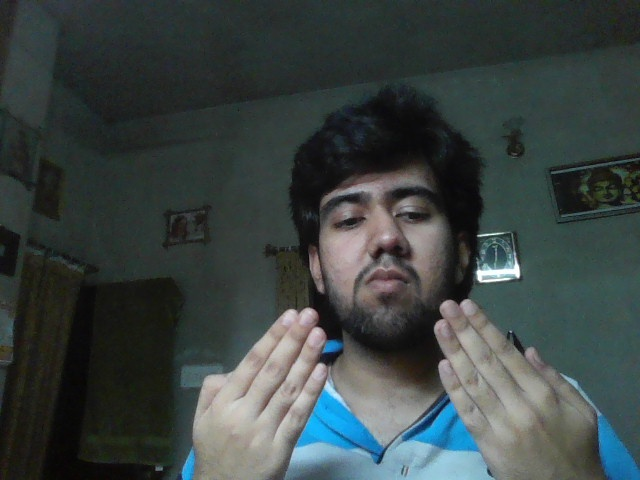ThankYou: (192, 298, 599, 480)
